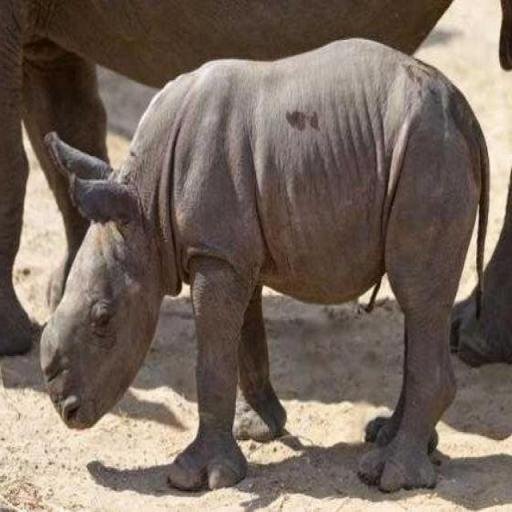Rhino: (37, 34, 490, 493)
